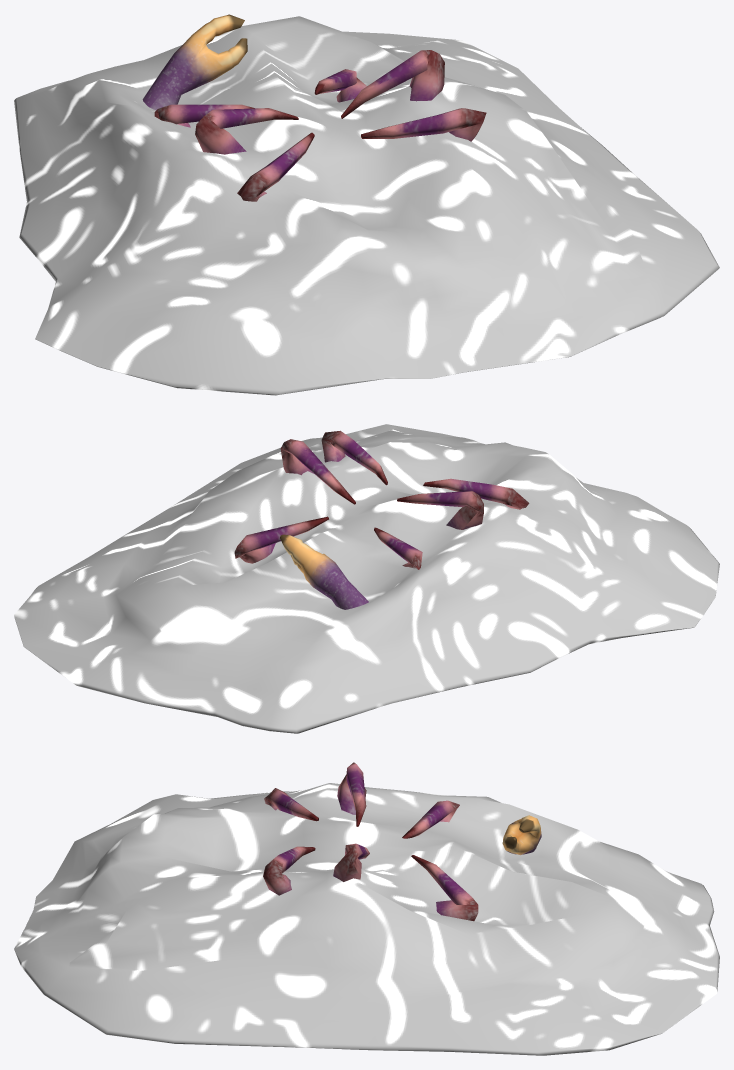
File: arthropode_corruption.fbx
3 views of the same model, one above another, from view 1: azimuth 30°, elevation 25°; view 2: azimuth 150°, elevation 25°; view 3: azimuth 270°, elevation 25° (orthographic). The views are drawn at different scales.
Parts seen in each view (by area): view 1: Corruption1, insect_cadavre; view 2: Corruption1, insect_cadavre; view 3: Corruption1, insect_cadavre.
Part boxes in pixels (bbox=[...]): Corruption1: bbox=[14, 16, 719, 395]; insect_cadavre: bbox=[142, 14, 486, 201]; Corruption1: bbox=[14, 424, 719, 733]; insect_cadavre: bbox=[234, 430, 529, 609]; Corruption1: bbox=[14, 783, 719, 1055]; insect_cadavre: bbox=[263, 762, 541, 921].
Size of the model in its own units: 192 by 44 by 215.
